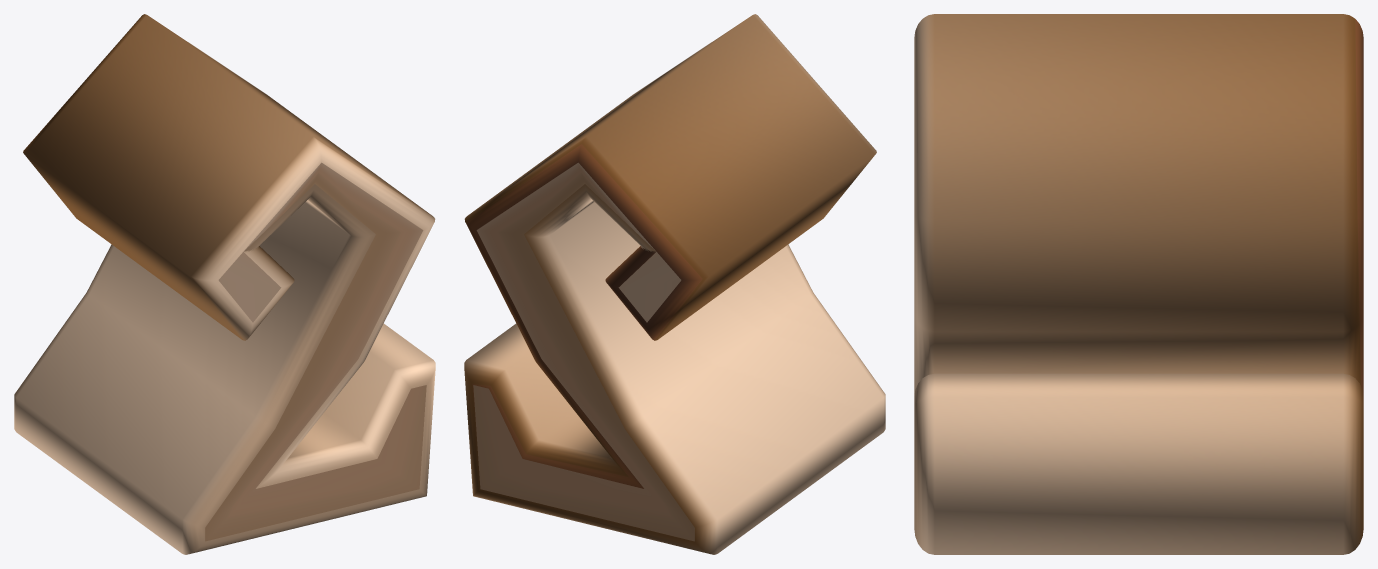
The picture shows the model from 3 angles, left to right: view 1: azimuth 30°, elevation 25°; view 2: azimuth 150°, elevation 25°; view 3: azimuth 270°, elevation 25°; orthographic projection. The views are drawn at different scales.
Visible parts, largest first — view 1: テキスト; view 2: テキスト; view 3: テキスト.
Boxes of the visible parts, bbox=[...] form: テキスト: bbox=[14, 14, 435, 554]; テキスト: bbox=[464, 14, 885, 554]; テキスト: bbox=[914, 14, 1363, 554].
Bounding box in the file's own units: 0.3494 × 0.5122 × 0.44.
Materials: 1 (1 with a texture image).
